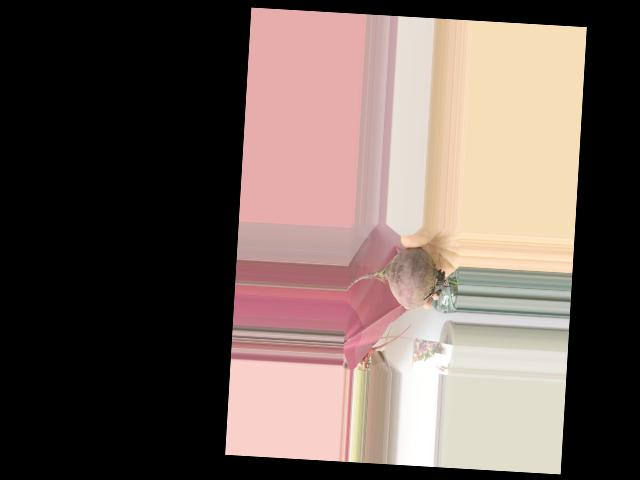beet: (346, 243, 460, 311)
